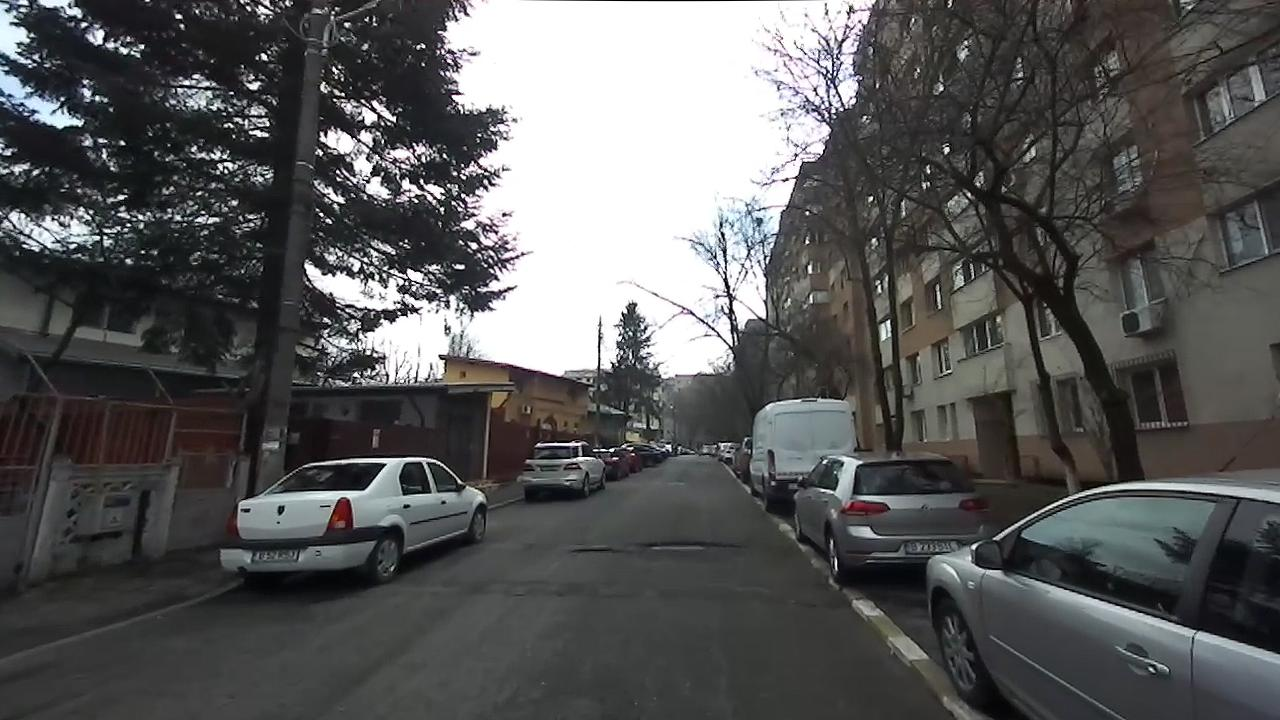pothole: (642, 538, 747, 556), (569, 546, 624, 556)
